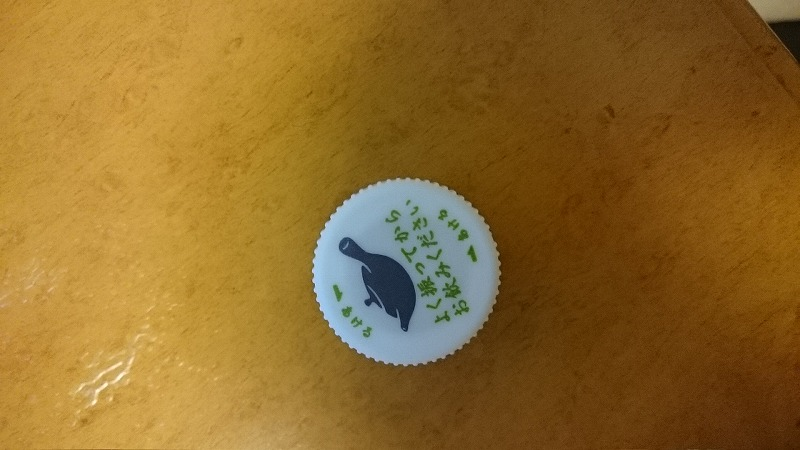A: (302, 169, 523, 369)
